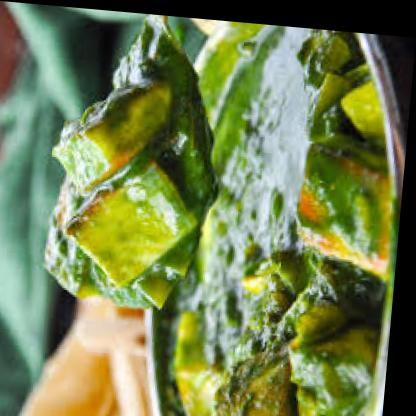palak_paneer: (173, 14, 408, 416), (45, 11, 234, 311)
